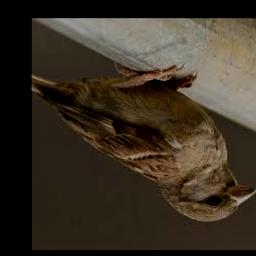Sparrow: (31, 64, 256, 223)
